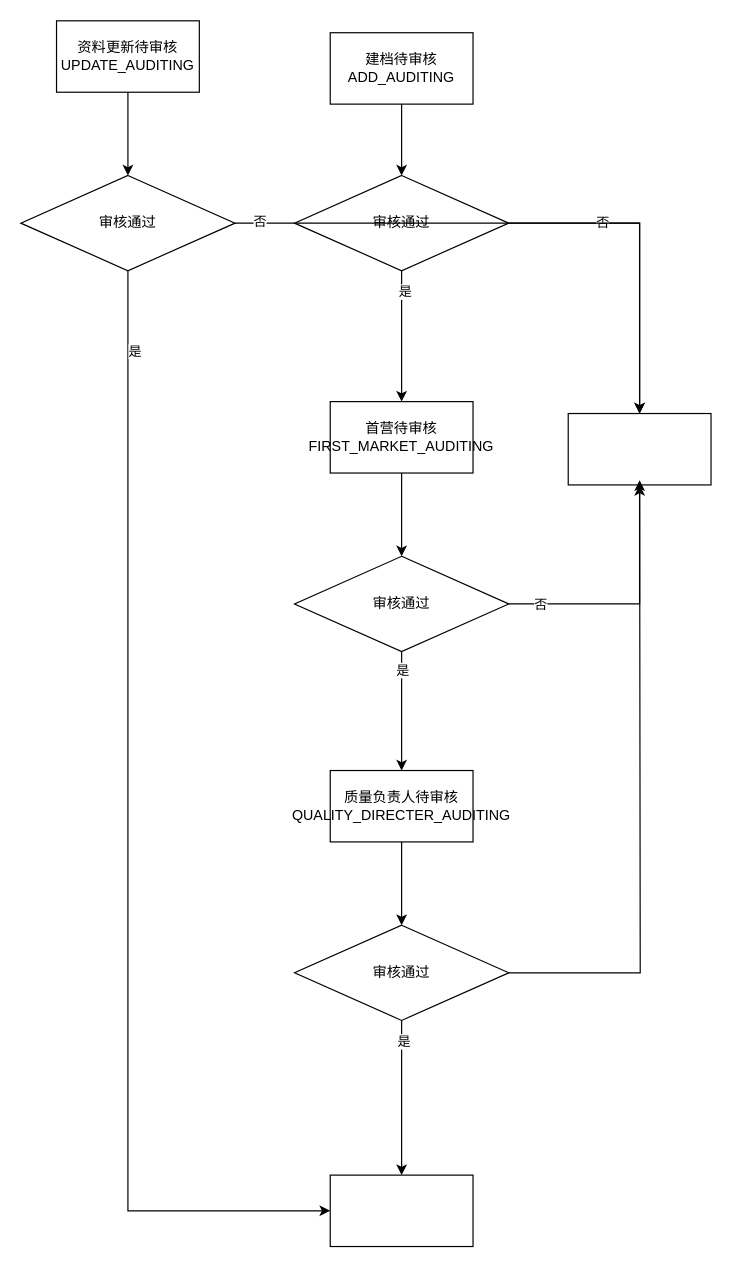
Image size: 732x1267. Some labels were removed from this diagram. Here are the shapes that lost their labels. From the top down, the box of each, then its label:
(567, 412, 711, 485): 已驳回REJECT
(329, 1174, 473, 1247): 已核准APPROVED
